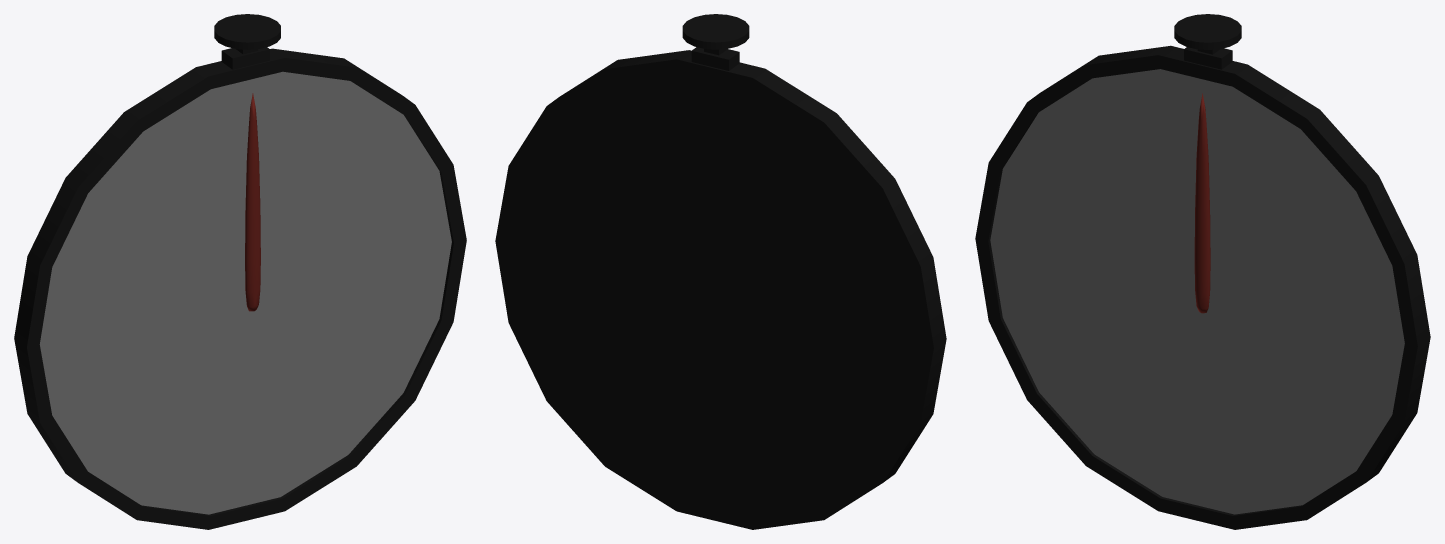
File: Brujula.fbx
3 views of the same model, side by side, from view 1: azimuth 30°, elevation 25°; view 2: azimuth 150°, elevation 25°; view 3: azimuth 330°, elevation 25° (orthographic).
Parts seen in each view (by area): view 1: Cylinder001; view 2: Cylinder001; view 3: Cylinder001.
Boxes of the visible parts, x1,y1,x2,y2 form: Cylinder001: (14, 14, 466, 529); Cylinder001: (495, 14, 946, 529); Cylinder001: (975, 14, 1430, 529).
Size of the model in its own units: 10 by 10.58 by 1.31.
